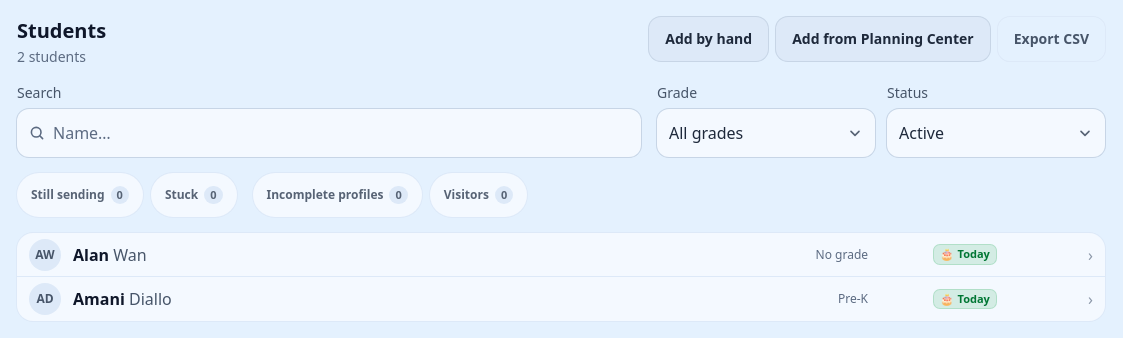
Scenario: StudentsPage grade › does not confuse having no grade with being in Pre-K
The width and height of the screenshot is (1123, 338).
Select "No grade" in the dropdown named "All grades": [766, 133] box [657,109,875,157]
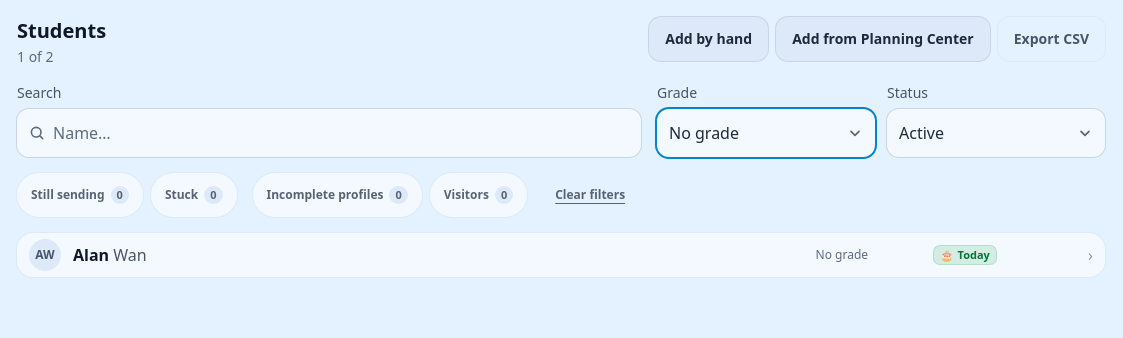
Expected: the link named "Alan Wan" is shown, [17,233,1105,277]
Now the text "Amani" is gone
Select "Pre-K" in the dropdown named "All grades": [766, 133] box [657,109,875,157]
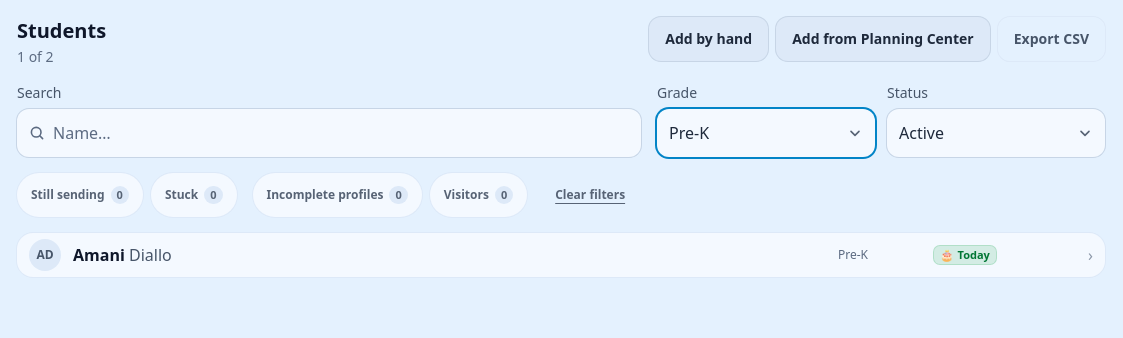
Now the link named "Amani" is shown, box [17,233,1105,277]
Now the link "Alan Wan" is gone
